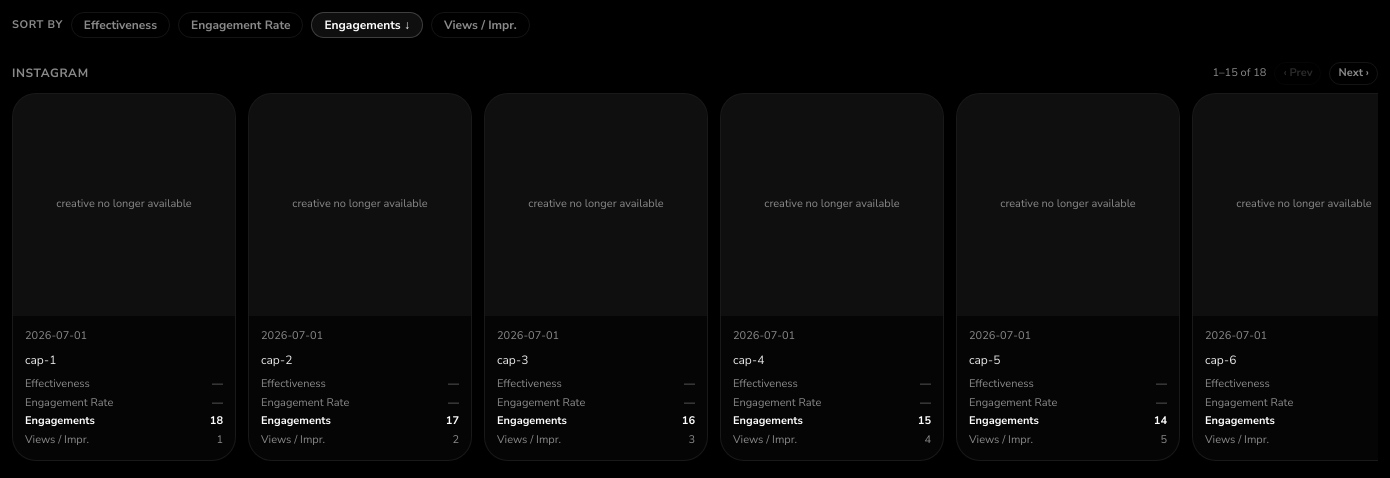
Scenario: Next advances to the remaining 3 posts and disables further paging
The image size is (1390, 478).
Click the button "Next ›" at [1354, 73], box [1330, 62, 1378, 84]
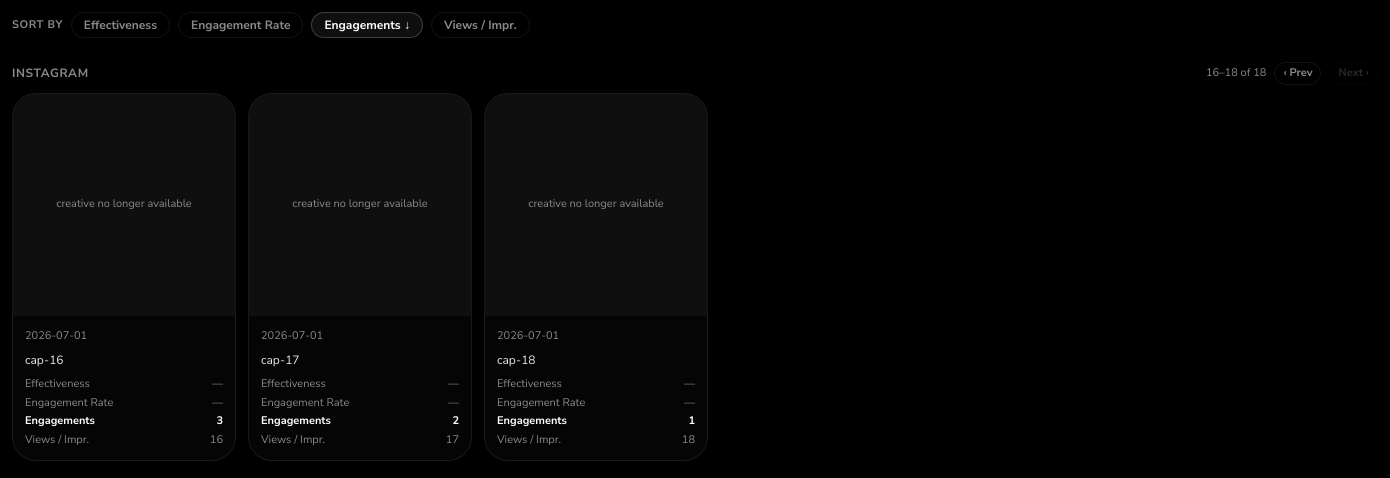
Result: the text "16–18 of 18" is shown at [1206, 65, 1266, 82]
Result: the button "Next ›" is disabled at [1330, 62, 1378, 84]
